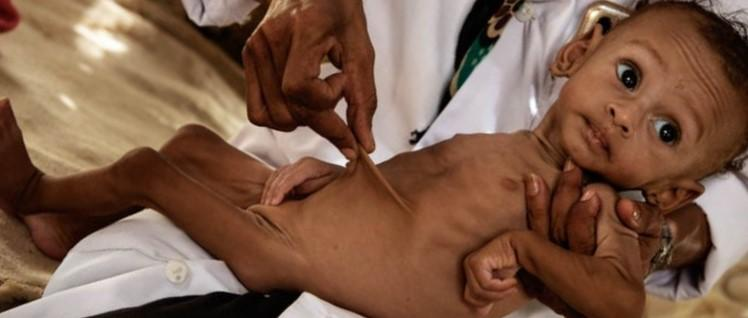Stunting: (525, 0, 748, 196)
